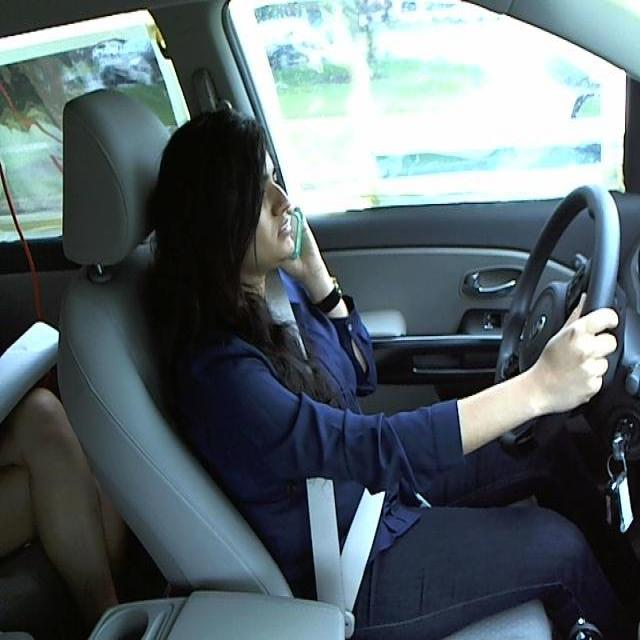using_phone: (147, 102, 364, 310)
